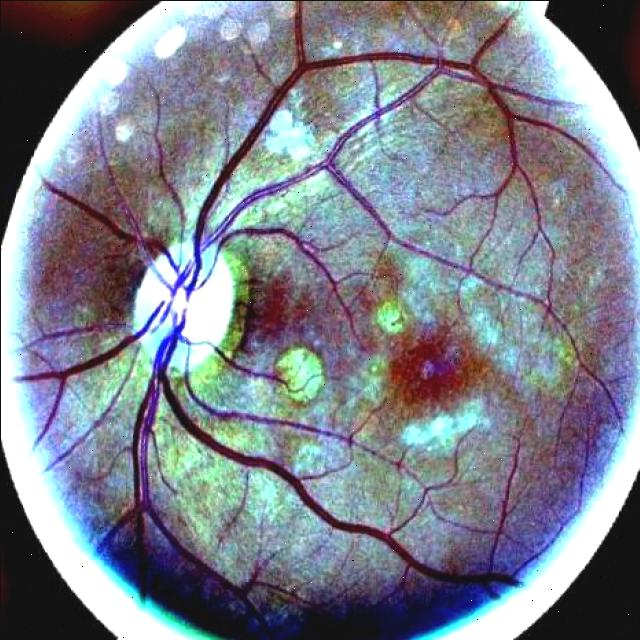Macula: (387, 324, 486, 411)
Nerves: (12, 18, 595, 614), (43, 352, 137, 472), (158, 143, 183, 251)
Optic Disk: (132, 242, 233, 371)
